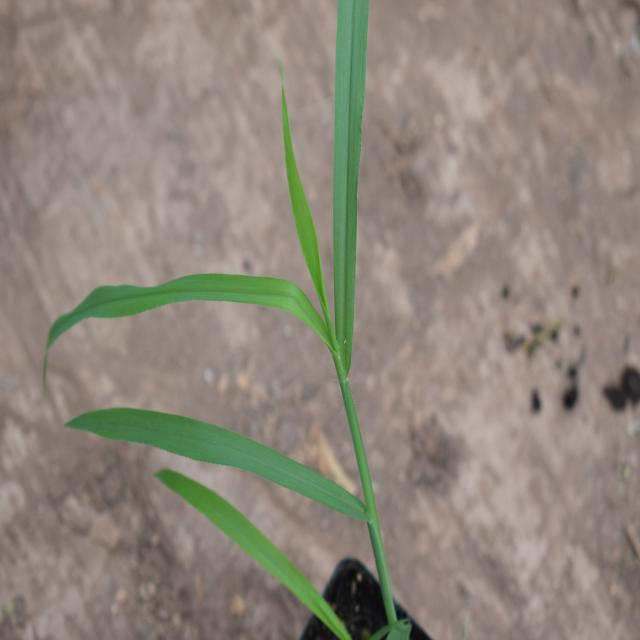crabgrass: (42, 6, 431, 595)
